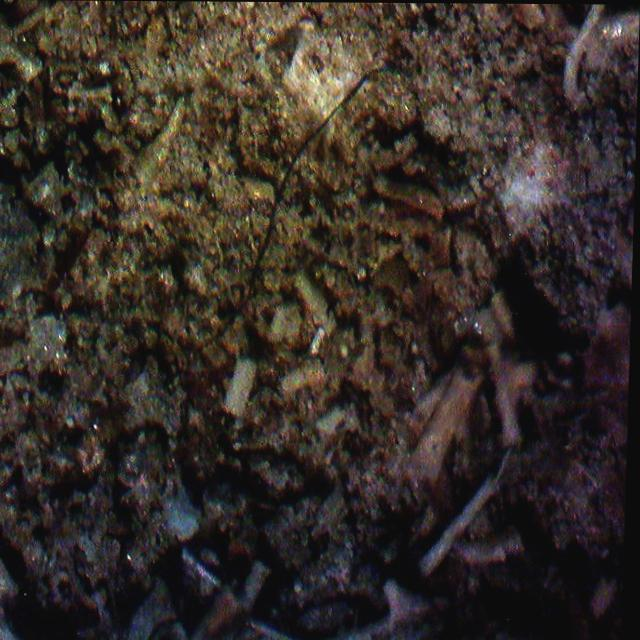microplastic: (249, 71, 370, 300)
